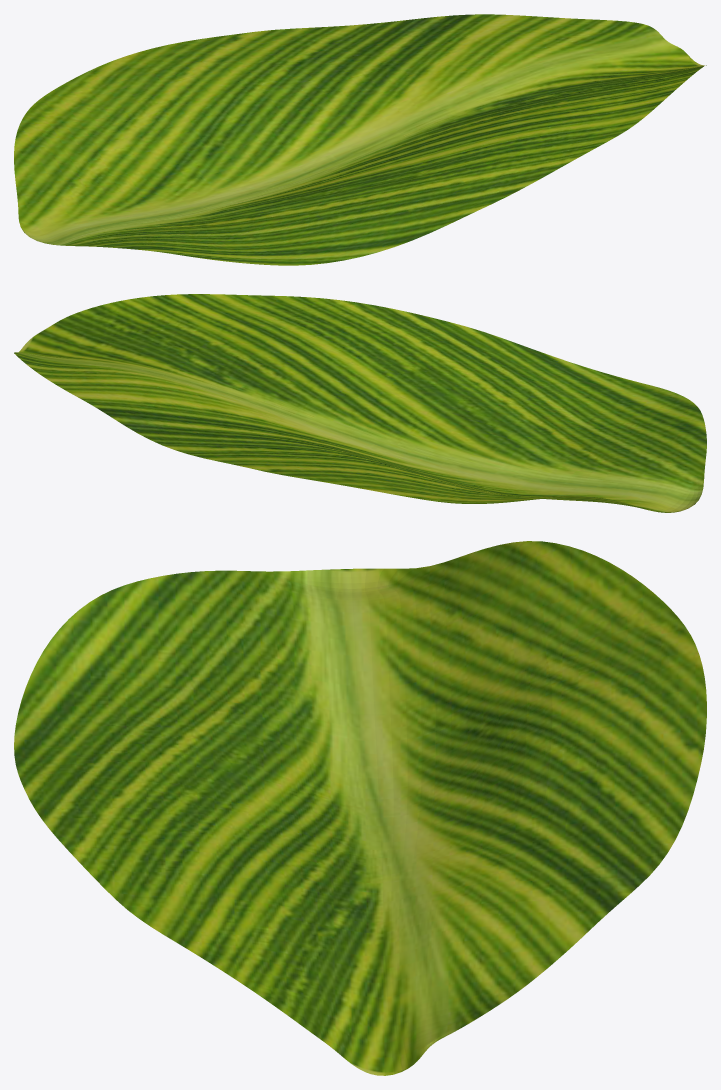
File: leaf_c2.glb
3 views of the same model, one above another, from view 1: azimuth 30°, elevation 25°; view 2: azimuth 150°, elevation 25°; view 3: azimuth 270°, elevation 25° (orthographic). The views are drawn at different scales.
Visible parts, largest first — view 1: Circle.015; view 2: Circle.015; view 3: Circle.015.
Part boxes in pixels (<box>): Circle.015: <box>14,14,706,265</box>; Circle.015: <box>14,294,706,512</box>; Circle.015: <box>14,541,706,1075</box>.
Bounding box in the file's own units: 0.9999 × 0.086 × 0.5781.
1 material, 1 textured.
